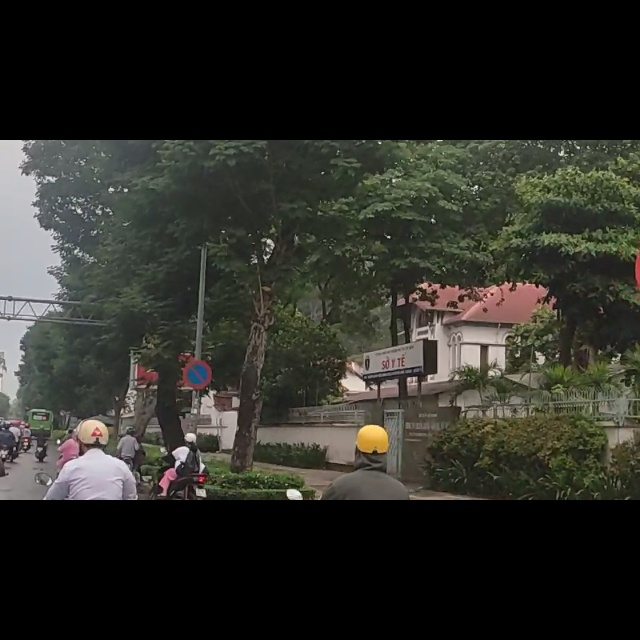bien_cam: (182, 390, 211, 443)
